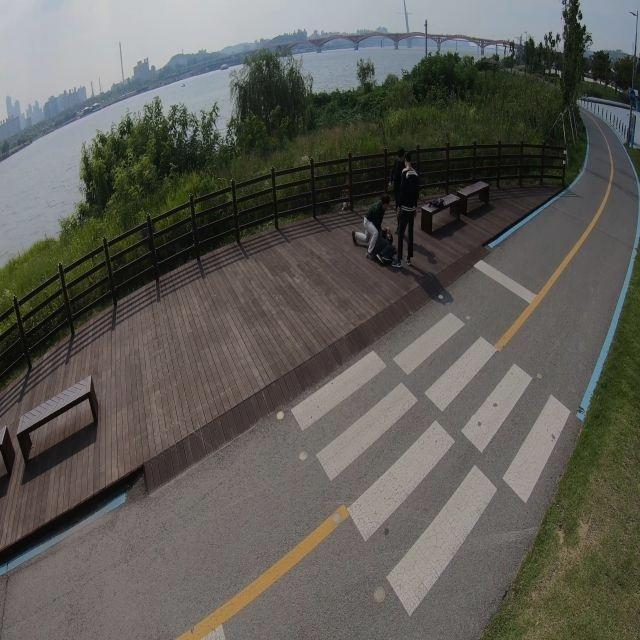fight: (351, 190, 397, 267)
non-fight: (392, 150, 420, 267)
